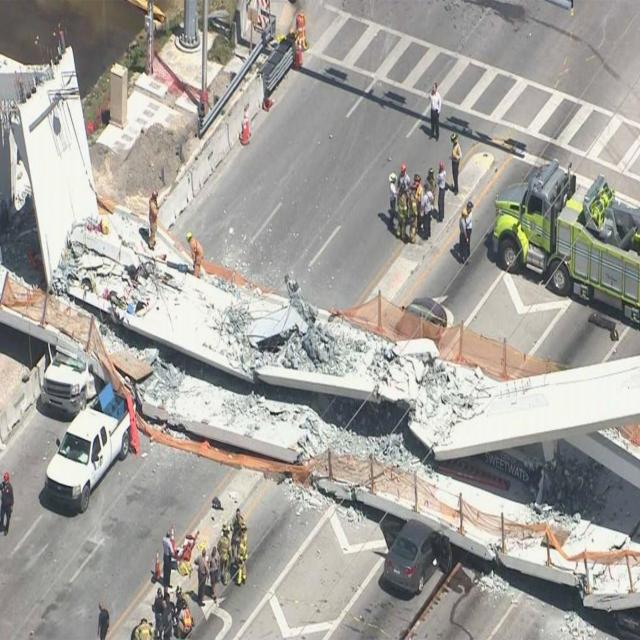collapsed_building: (0, 175, 640, 619)
